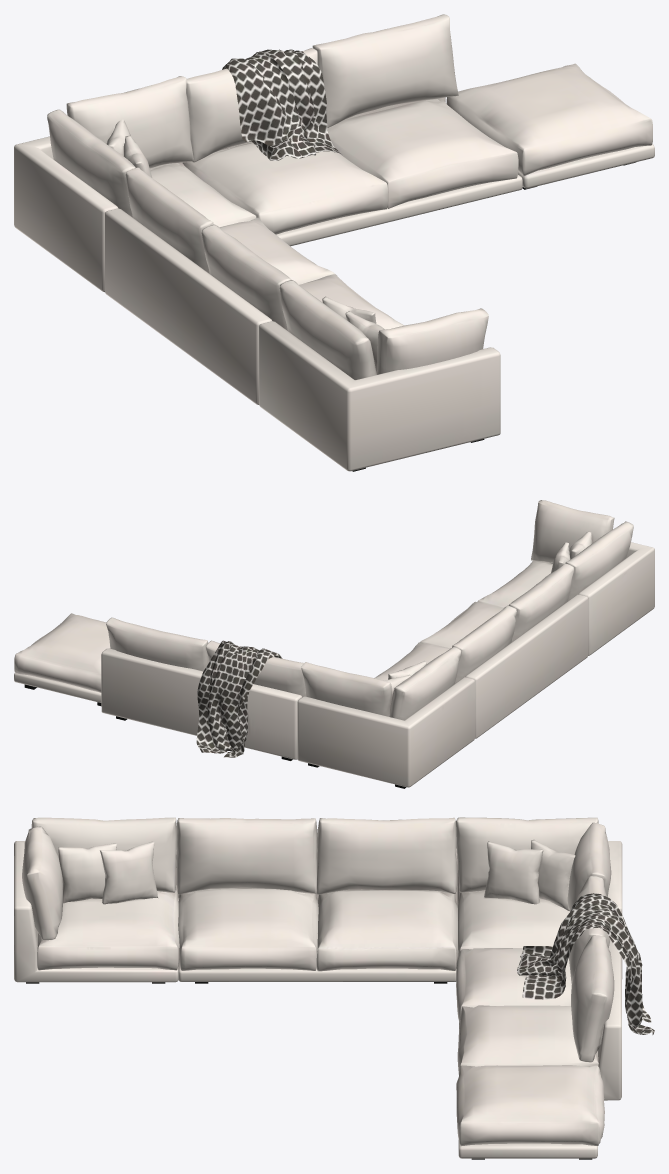
File: sofa_corner.glb
3 views of the same model, one above another, from view 1: azimuth 30°, elevation 25°; view 2: azimuth 150°, elevation 25°; view 3: azimuth 270°, elevation 25° (orthographic). The views are drawn at different scales.
Visible parts, largest first — view 1: large sectional couch Low Poly_Material.002_0; view 2: large sectional couch Low Poly_Material.002_0; view 3: large sectional couch Low Poly_Material.002_0.
Part boxes in pixels (bbox=[...]): large sectional couch Low Poly_Material.002_0: bbox=[14, 14, 654, 471]; large sectional couch Low Poly_Material.002_0: bbox=[14, 500, 654, 788]; large sectional couch Low Poly_Material.002_0: bbox=[14, 817, 654, 1159].
Bounding box in the file's own units: 2.63 × 0.5923 × 2.9.
Materials: 1 (1 with a texture image).
